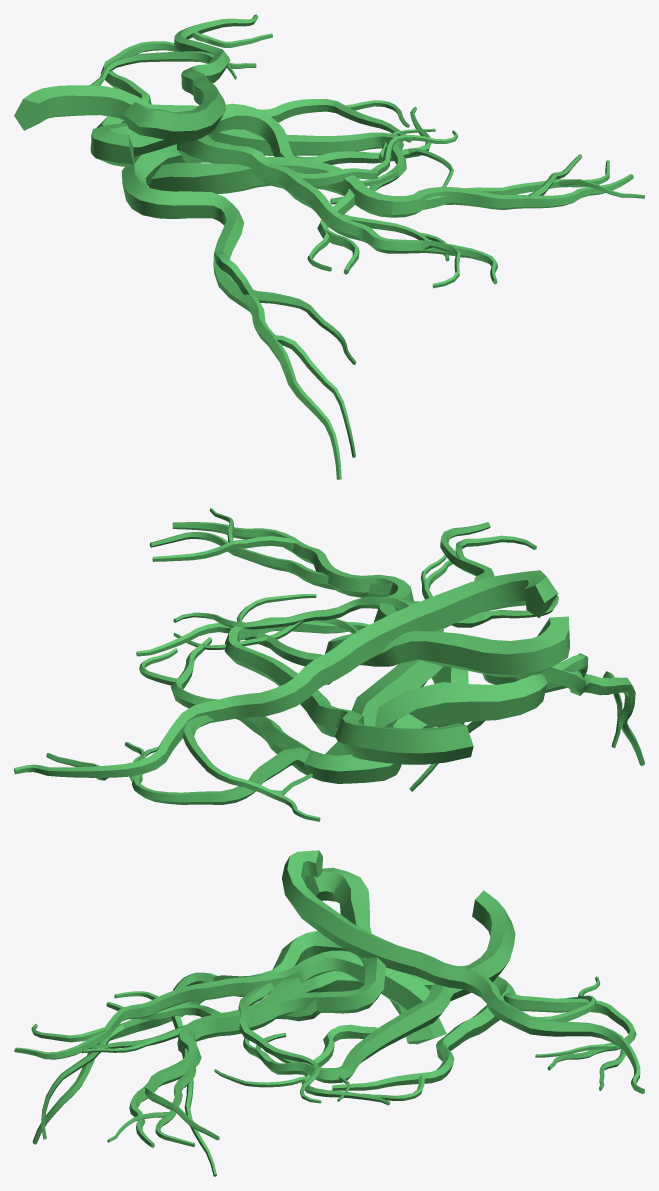
The model's file is roots_set_D.fbx.
3 views of the same model, one above another, from view 1: azimuth 30°, elevation 25°; view 2: azimuth 150°, elevation 25°; view 3: azimuth 270°, elevation 25° (orthographic). The views are drawn at different scales.
Parts seen in each view (by area): view 1: roots_set_D_G, roots_set_D_A, roots_set_D_B, roots_set_D_D, roots_set_D_E, roots_set_D_F, roots_set_D_C; view 2: roots_set_D_E, roots_set_D_B, roots_set_D_G, roots_set_D_F, roots_set_D_C, roots_set_D_A, roots_set_D_D; view 3: roots_set_D_E, roots_set_D_D, roots_set_D_B, roots_set_D_F, roots_set_D_A, roots_set_D_C, roots_set_D_G.
Boxes of the visible parts, <box> form: roots_set_D_G: <box>121,144,356,479</box>; roots_set_D_A: <box>148,154,644,217</box>; roots_set_D_B: <box>14,85,453,204</box>; roots_set_D_D: <box>177,128,497,288</box>; roots_set_D_E: <box>88,14,272,141</box>; roots_set_D_F: <box>90,103,463,274</box>; roots_set_D_C: <box>96,41,411,142</box>; roots_set_D_E: <box>14,570,558,821</box>; roots_set_D_B: <box>136,594,473,764</box>; roots_set_D_G: <box>325,653,644,791</box>; roots_set_D_F: <box>325,554,570,677</box>; roots_set_D_C: <box>125,637,426,804</box>; roots_set_D_A: <box>149,508,468,727</box>; roots_set_D_D: <box>173,522,536,726</box>; roots_set_D_E: <box>282,850,644,1093</box>; roots_set_D_D: <box>14,950,429,1103</box>; roots_set_D_B: <box>214,890,515,1105</box>; roots_set_D_F: <box>81,867,385,1053</box>; roots_set_D_A: <box>107,971,364,1147</box>; roots_set_D_C: <box>332,965,636,1100</box>; roots_set_D_G: <box>32,931,446,1176</box>.
Size of the model in its own units: 532 by 323 by 688.
